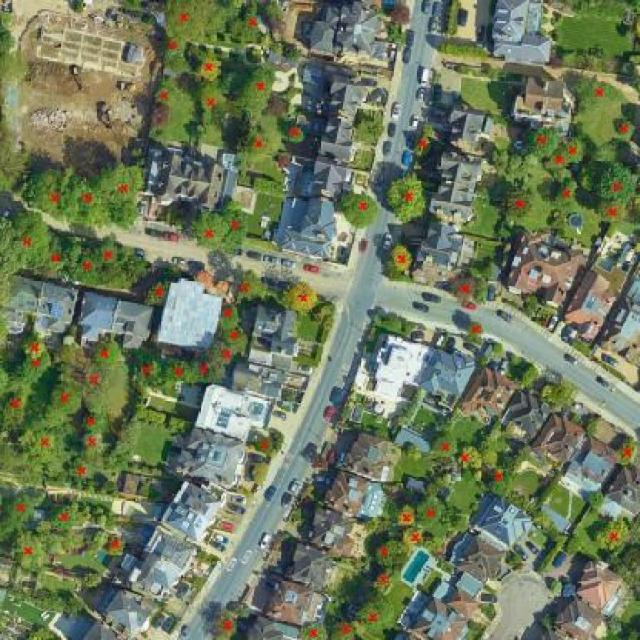tree: (59, 340, 126, 428), (567, 70, 625, 152), (0, 208, 57, 284), (228, 109, 290, 177), (17, 158, 72, 228), (58, 175, 118, 238), (158, 0, 231, 49), (381, 169, 437, 228), (0, 480, 51, 542), (235, 60, 287, 120), (13, 422, 72, 473), (335, 180, 382, 242), (584, 153, 640, 204), (42, 373, 88, 432), (190, 76, 236, 133), (350, 592, 404, 640), (98, 156, 150, 204), (511, 118, 567, 162), (0, 46, 35, 112), (187, 207, 235, 253), (6, 534, 56, 578), (108, 248, 157, 292), (124, 342, 168, 391), (278, 273, 328, 316), (590, 511, 635, 558), (444, 266, 490, 311), (0, 376, 32, 437), (85, 331, 130, 374), (152, 24, 193, 71), (589, 195, 637, 234), (222, 198, 253, 258), (499, 186, 541, 229), (10, 350, 52, 392), (542, 374, 581, 418), (200, 335, 238, 380), (228, 267, 274, 304), (90, 232, 133, 270), (229, 0, 262, 49), (62, 454, 102, 494), (205, 601, 246, 640), (407, 115, 441, 162), (150, 75, 188, 117), (365, 535, 410, 570), (104, 195, 145, 233), (481, 461, 522, 499), (72, 429, 114, 466), (550, 172, 582, 220), (71, 248, 109, 288), (416, 492, 452, 534), (384, 238, 418, 282), (158, 358, 202, 392), (195, 49, 231, 89), (207, 298, 245, 334), (366, 564, 405, 599), (426, 426, 460, 466), (73, 406, 115, 437), (189, 354, 226, 389), (44, 500, 78, 538), (140, 277, 178, 311), (612, 428, 640, 472), (42, 242, 72, 282), (562, 132, 592, 172), (451, 444, 487, 476), (215, 330, 252, 361), (0, 120, 26, 163), (17, 330, 55, 359), (611, 108, 637, 150), (278, 118, 311, 150), (247, 426, 278, 460), (292, 614, 332, 640), (461, 314, 488, 352), (398, 525, 434, 553), (388, 497, 419, 529), (541, 146, 568, 182), (249, 458, 273, 494), (102, 532, 130, 560), (323, 620, 362, 640), (518, 358, 540, 393), (584, 409, 604, 443), (87, 524, 110, 553), (0, 9, 17, 31)
